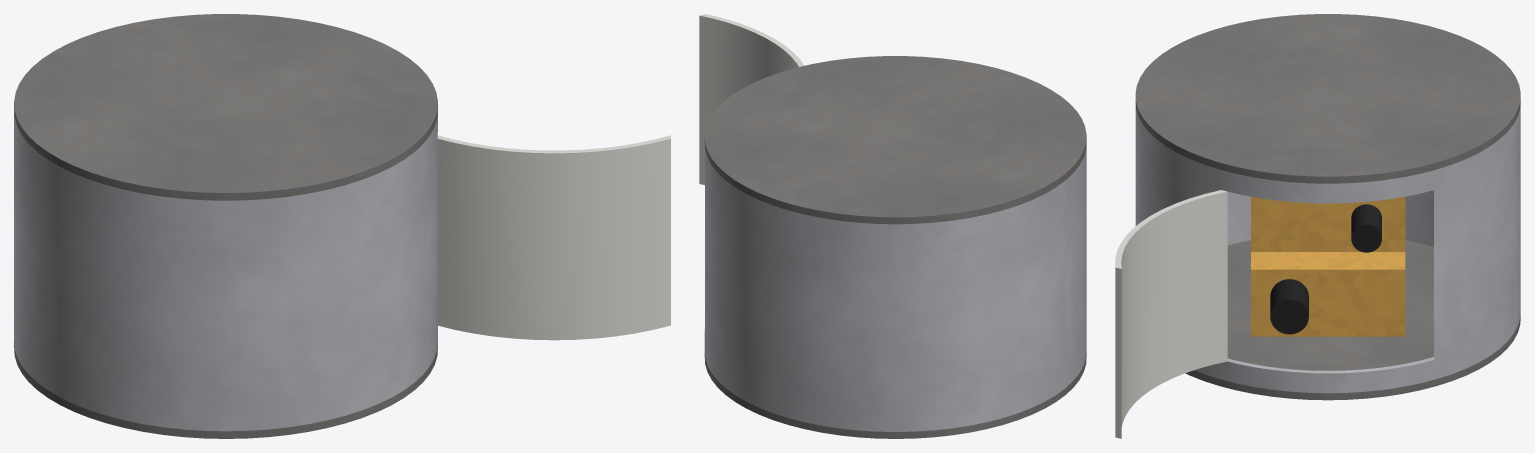
File: sci03_science_bay_m_door_open.glb
3 renders of one model, left to right at view 1: azimuth 30°, elevation 25°; view 2: azimuth 150°, elevation 25°; view 3: azimuth 270°, elevation 25°, orthographic. The views are drawn at different scales.
Parts seen in each view (by area): view 1: shell, end_rings, door; view 2: shell, end_rings, door; view 3: end_rings, shell, door, instruments, instrument_heads.
Part boxes in pixels (left/top/right/bottom): shell: left=14, top=110, right=437, bottom=431; end_rings: left=14, top=14, right=437, bottom=438; door: left=437, top=135, right=670, bottom=340; shell: left=704, top=144, right=1086, bottom=431; end_rings: left=704, top=56, right=1086, bottom=438; door: left=699, top=14, right=804, bottom=184; end_rings: left=1135, top=14, right=1520, bottom=400; shell: left=1135, top=105, right=1520, bottom=393; door: left=1115, top=190, right=1227, bottom=438; instruments: left=1251, top=196, right=1405, bottom=336; instrument_heads: left=1270, top=204, right=1381, bottom=334.
Size of the model in its own units: 3.5 by 1.6 by 2.63.
5 materials, 3 textured.
